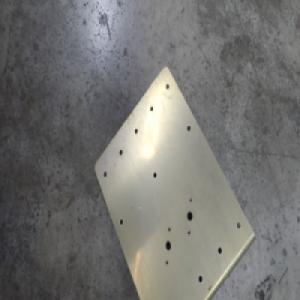MetalSheet: (92, 64, 255, 300)
